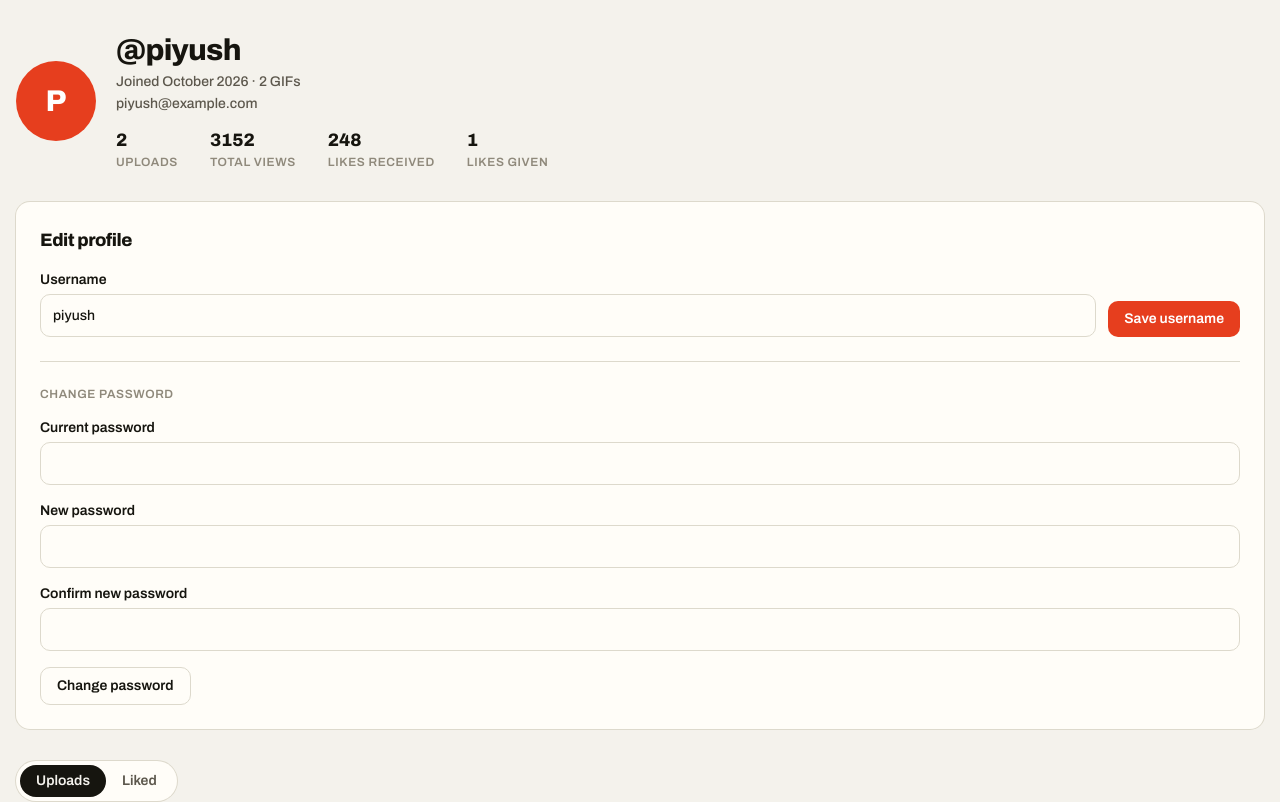
ProfilePage › change password with a wrong current password: the server error shows on the form
The width and height of the screenshot is (1280, 802).
Type "wrongpassword" into the password field with id "edit-current-password" at point(640, 464), box [40, 442, 1240, 485]
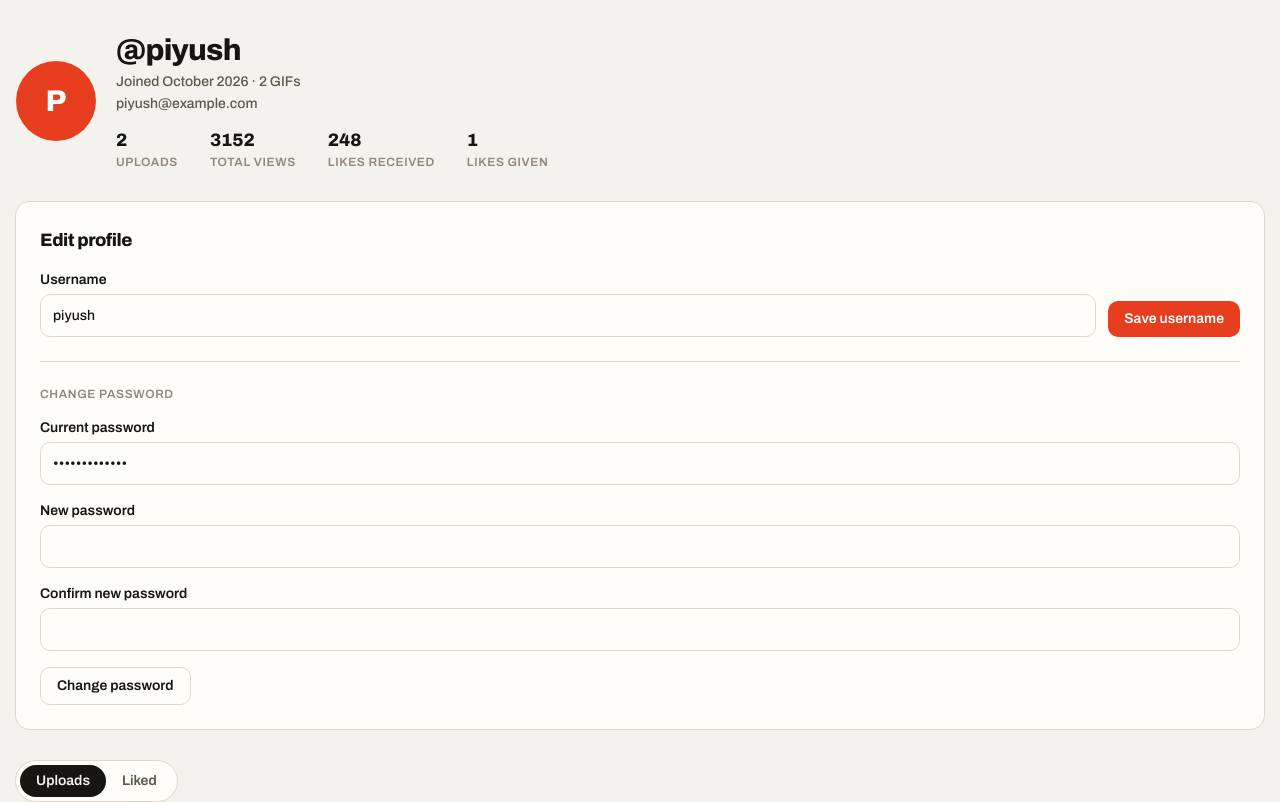
Type "brand-new-pass" into the password field with id "edit-new-password" at point(640, 546), box [40, 525, 1240, 568]
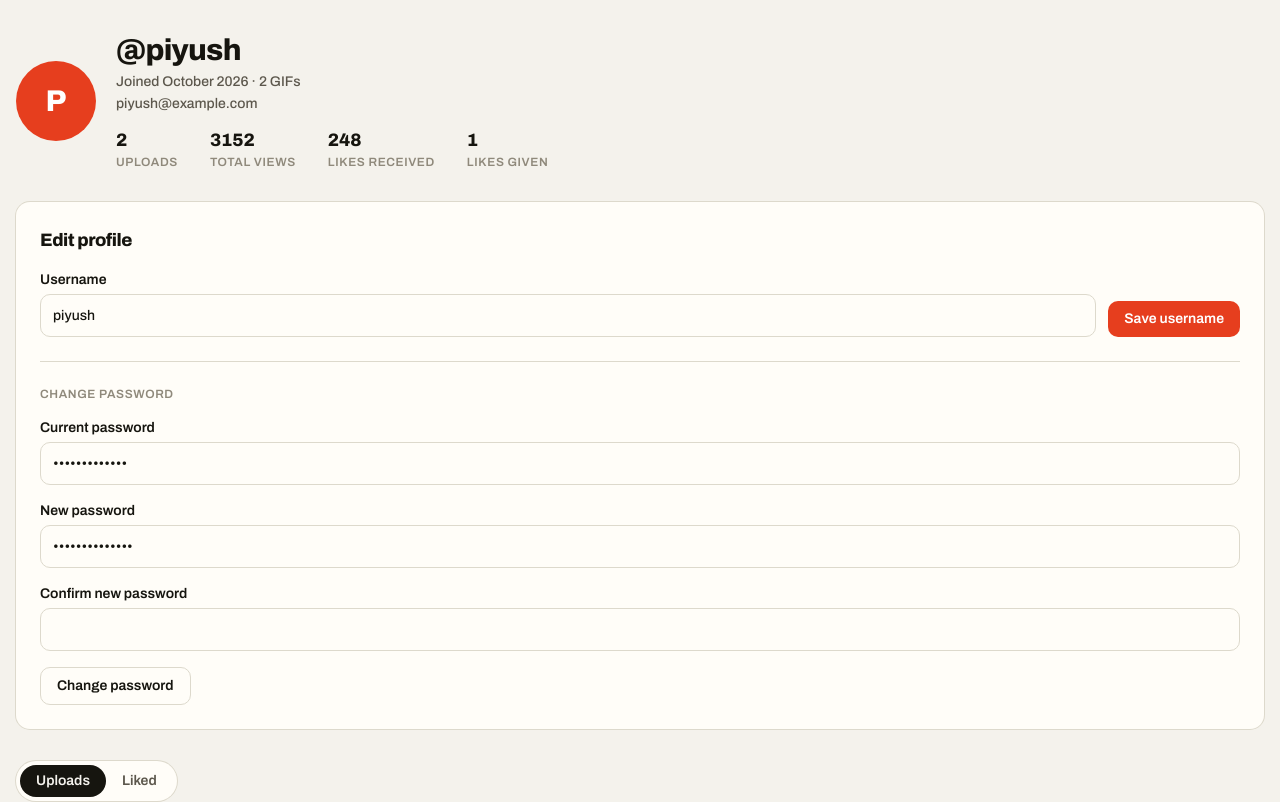
Type "brand-new-pass" into the password field with id "edit-confirm-password" at point(640, 630), box [40, 608, 1240, 651]
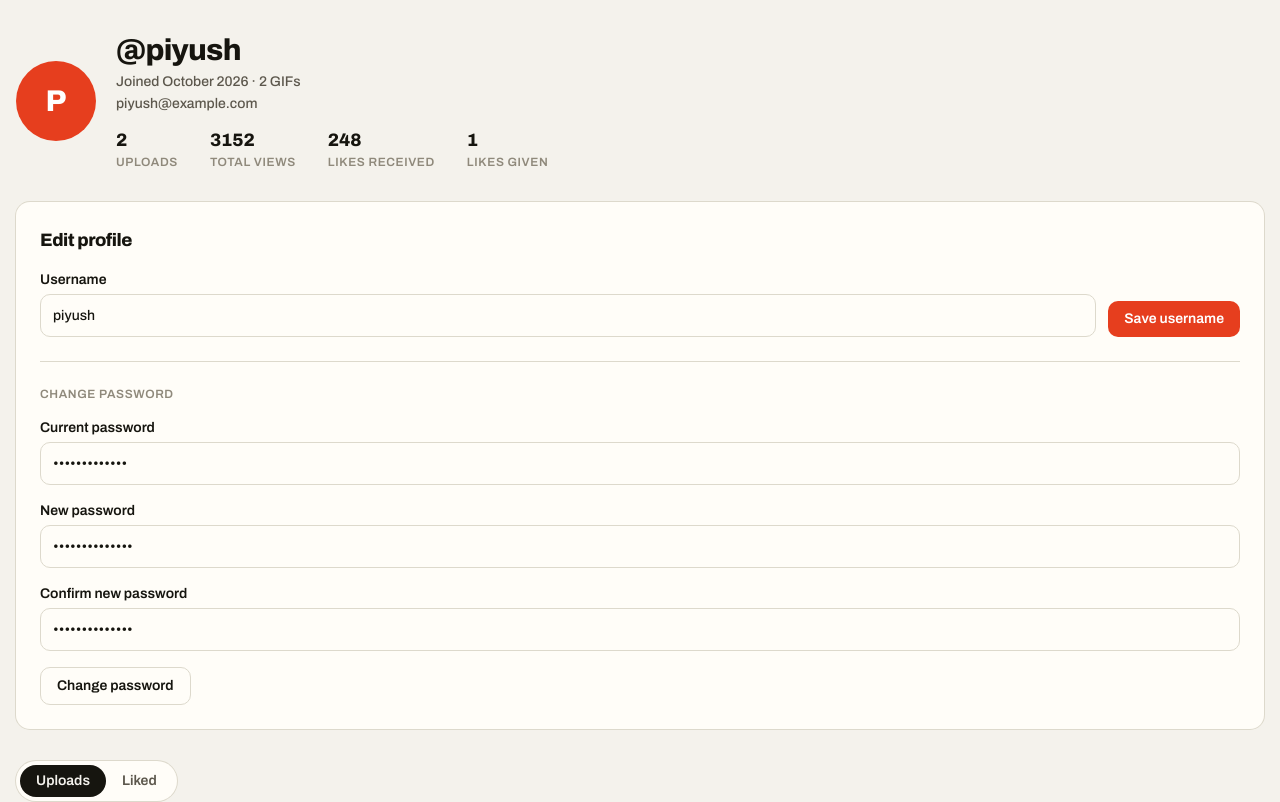
Submit the form that starts with "Change password", box [40, 386, 1240, 705]
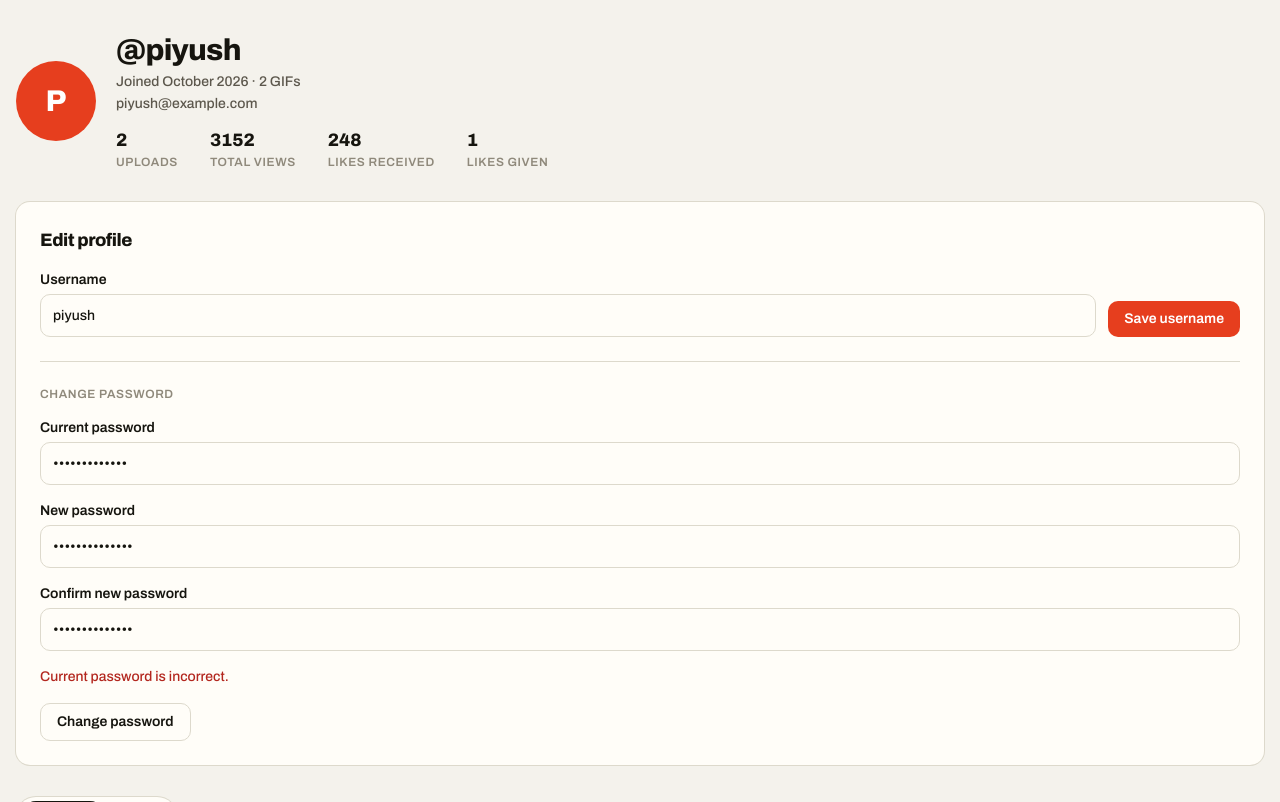
Result: the message "Current password is incorrect." is shown at [40, 669, 229, 684]
